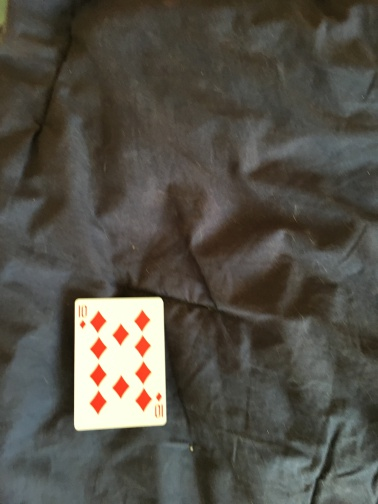ten: (74, 295, 169, 429)
